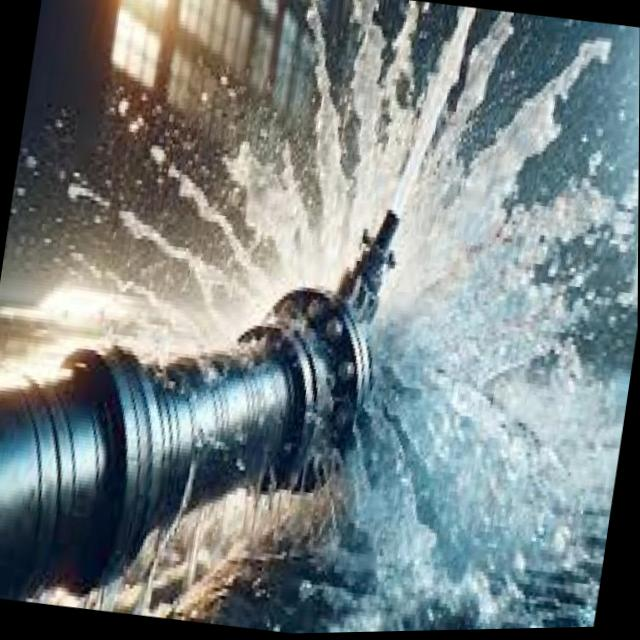leak: (0, 0, 639, 633)
